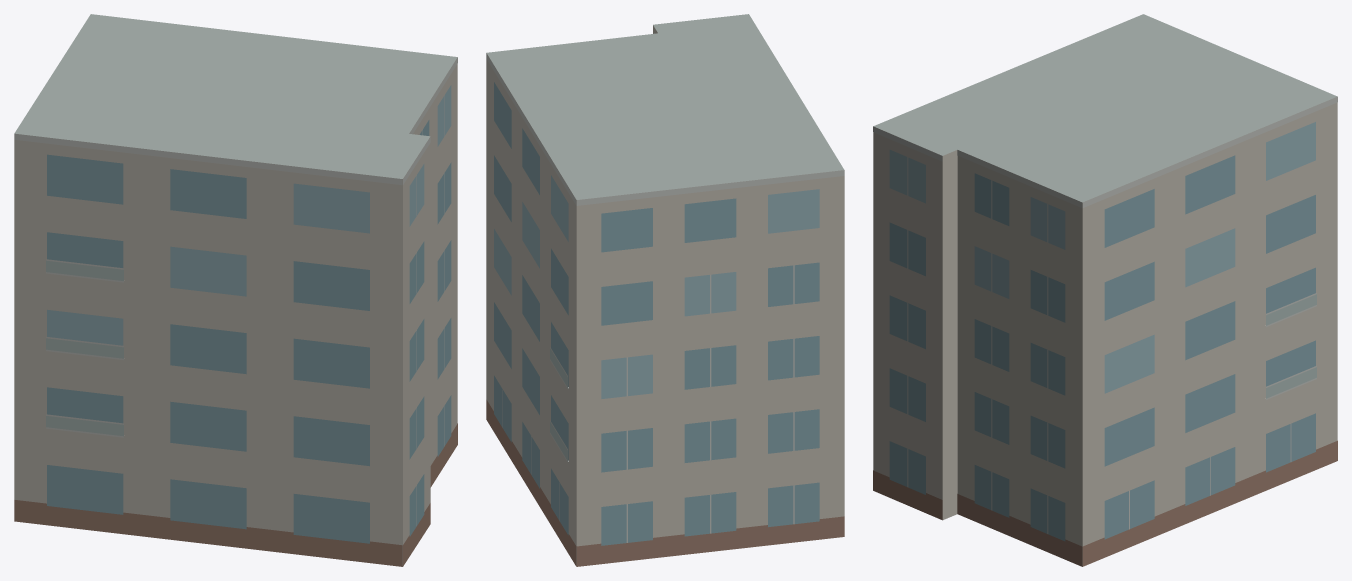
Rendered from survey-upis-32625892.glb.
3 views of the same model, side by side, from view 1: azimuth 30°, elevation 25°; view 2: azimuth 150°, elevation 25°; view 3: azimuth 270°, elevation 25° (orthographic). The views are drawn at different scales.
Parts seen in each view (by area): view 1: survey-upis-32625892.tmp; view 2: survey-upis-32625892.tmp; view 3: survey-upis-32625892.tmp.
Part boxes in pixels (x1,y1,x2,y2): survey-upis-32625892.tmp: [14, 14, 457, 566]; survey-upis-32625892.tmp: [486, 14, 844, 566]; survey-upis-32625892.tmp: [873, 14, 1337, 566].
Bounding box in the file's own units: 16.93 × 15.25 × 17.63.
